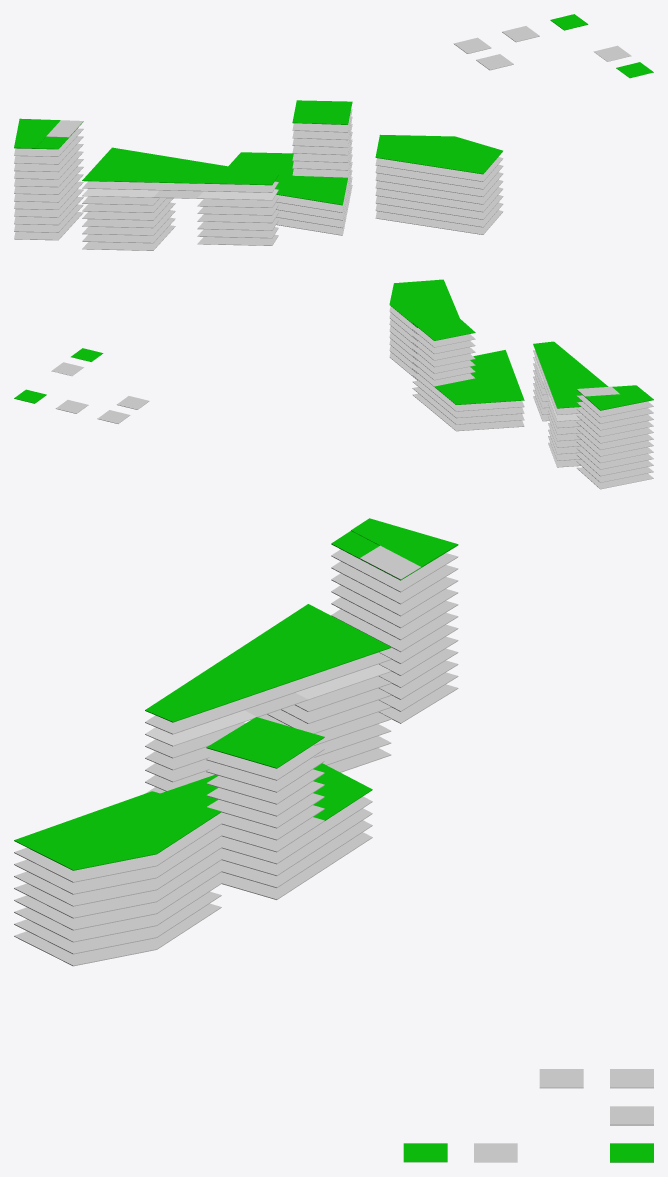
File: IfcSlab.gltf
3 renders of one model, top to bottom at view 1: azimuth 30°, elevation 25°; view 2: azimuth 150°, elevation 25°; view 3: azimuth 270°, elevation 25°, orthographic. The views are drawn at different scales.
Parts seen in each view (by area): view 1: Body (×60); view 2: Body (×29); view 3: Body (×39).
Part boxes in pixels (x1,y1,x2,y2): Body (×60): [14, 14, 653, 250]; Body (×29): [389, 279, 653, 489]; Body (×39): [14, 518, 458, 966].
Bounding box in the file's own units: 269 × 39.3 × 146.
